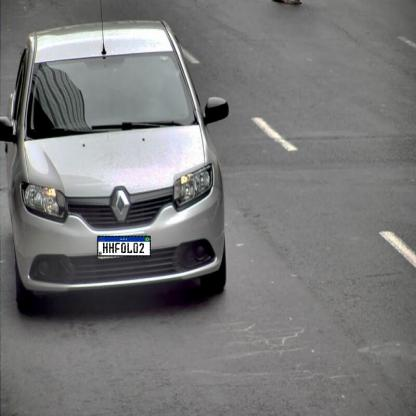PlacaM: (97, 236, 151, 256)
